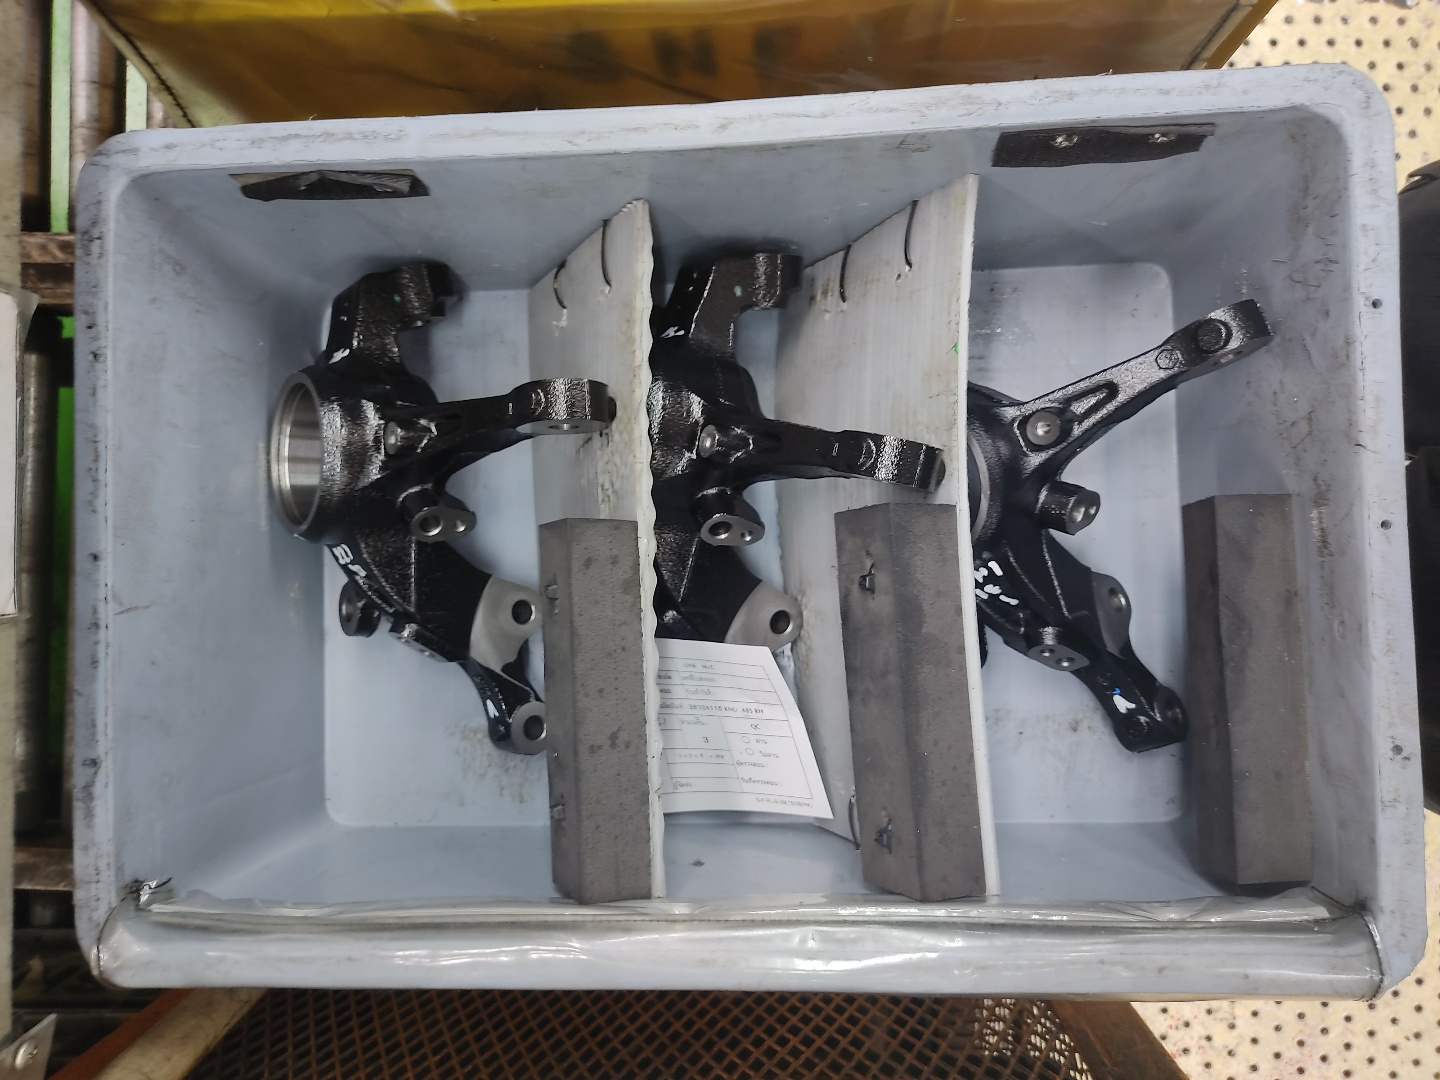abs-rh: (257, 252, 621, 763), (952, 238, 1279, 763), (650, 235, 949, 759)
